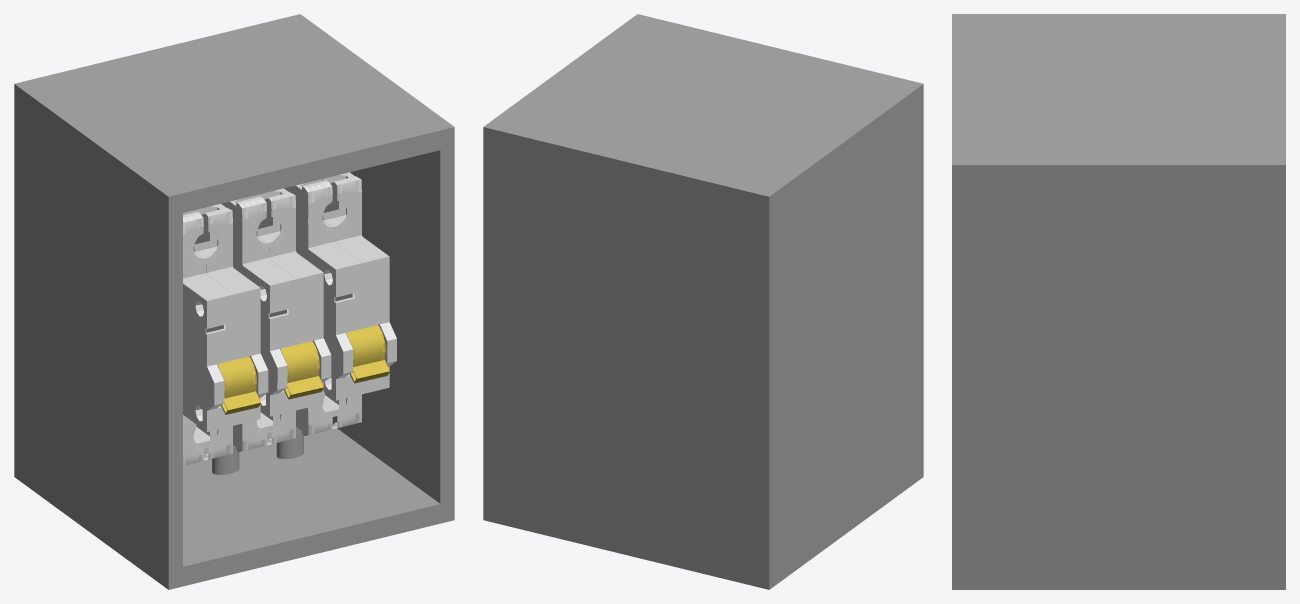
File: circuitBreakers.fbx
3 views of the same model, side by side, from view 1: azimuth 30°, elevation 25°; view 2: azimuth 150°, elevation 25°; view 3: azimuth 270°, elevation 25° (orthographic). The views are drawn at different scales.
Visible parts, largest first — view 1: pCube3, CB body 007, CB body 009, CB body 005, CB body 010, CB body 008, CB body 006, CB switch, CB switch2, CB switch1, pCylinder3; view 2: pCube3; view 3: pCube3.
Boxes of the visible parts, x1,y1,x2,y2 form: pCube3: (14,14,454,589); CB body 007: (183,210,233,465); CB body 009: (284,179,362,435); CB body 005: (221,195,296,452); CB body 010: (322,172,396,428); CB body 008: (193,204,268,460); CB body 006: (256,188,331,444); CB switch: (280,341,323,399); CB switch2: (346,325,389,383); CB switch1: (217,356,260,414); pCylinder3: (276,427,303,458); pCube3: (483,14,923,589); pCube3: (952,14,1285,589).
Size of the model in its own units: 950 by 1247 by 888.
